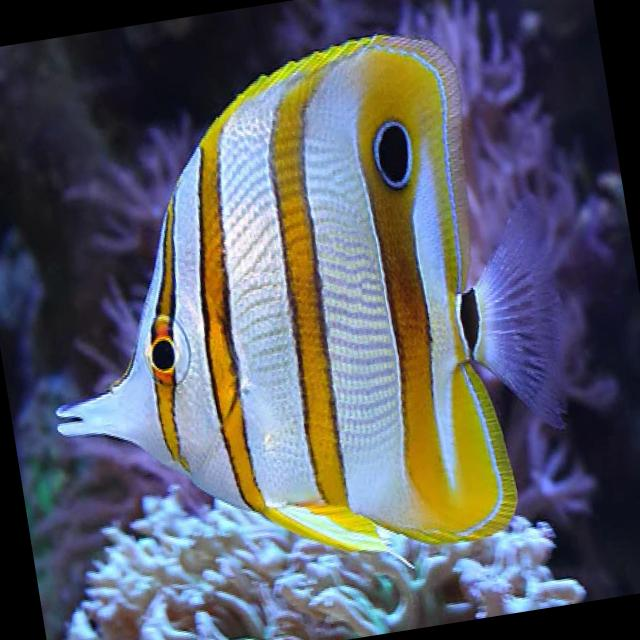ButterflyFish: (4, 20, 586, 593)
